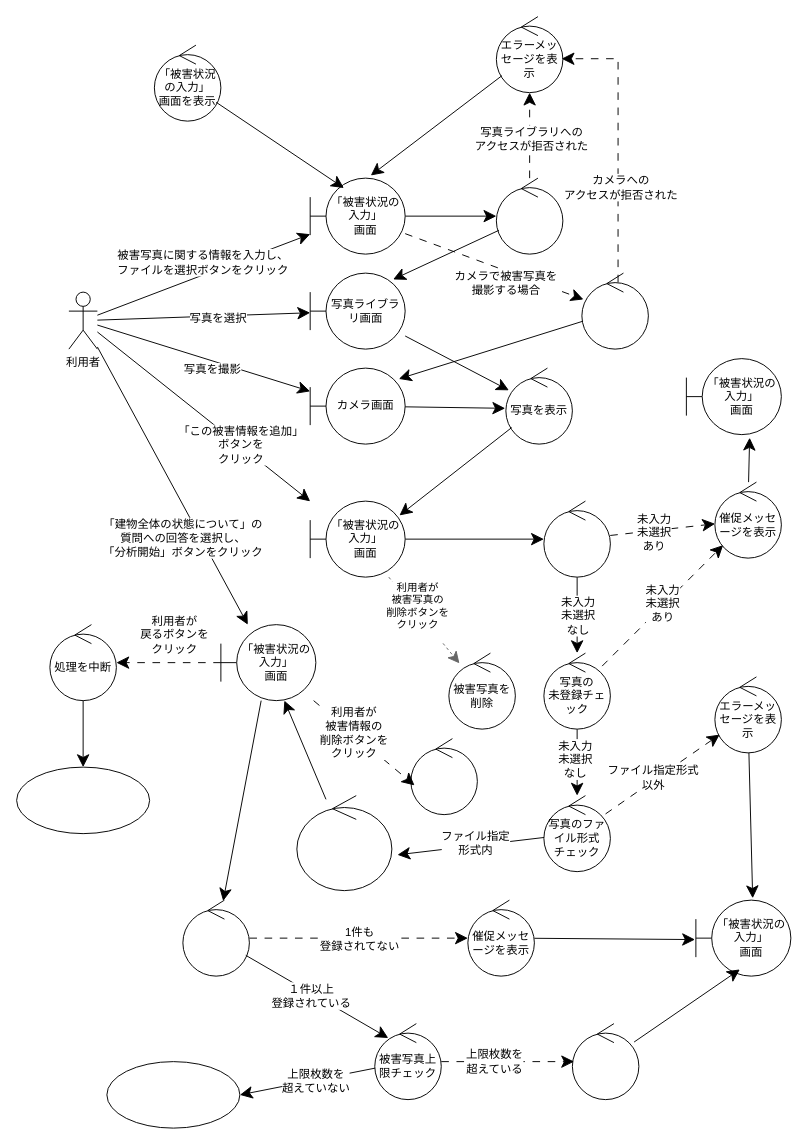
The diagram is 808 pixels wide and 1145 high, and some of its shapes have lost their labels. Each missing label, with the box of its shape:
AI分析: (106, 1061, 240, 1128)
「登録済みの被害情報」項目に利用者が入力した内容を追加: (296, 795, 392, 891)
カメラを 起動: (581, 272, 648, 349)
上限超過メッセージを表示: (571, 1023, 639, 1100)
建物情報入力: (16, 766, 150, 834)
未入力 未選択 チェック: (543, 500, 610, 577)
端末の 写真ライブラリを開く: (495, 177, 563, 254)
被害状況登録チェック: (182, 899, 249, 976)
選択された 被害情報を 削除: (410, 738, 477, 815)
